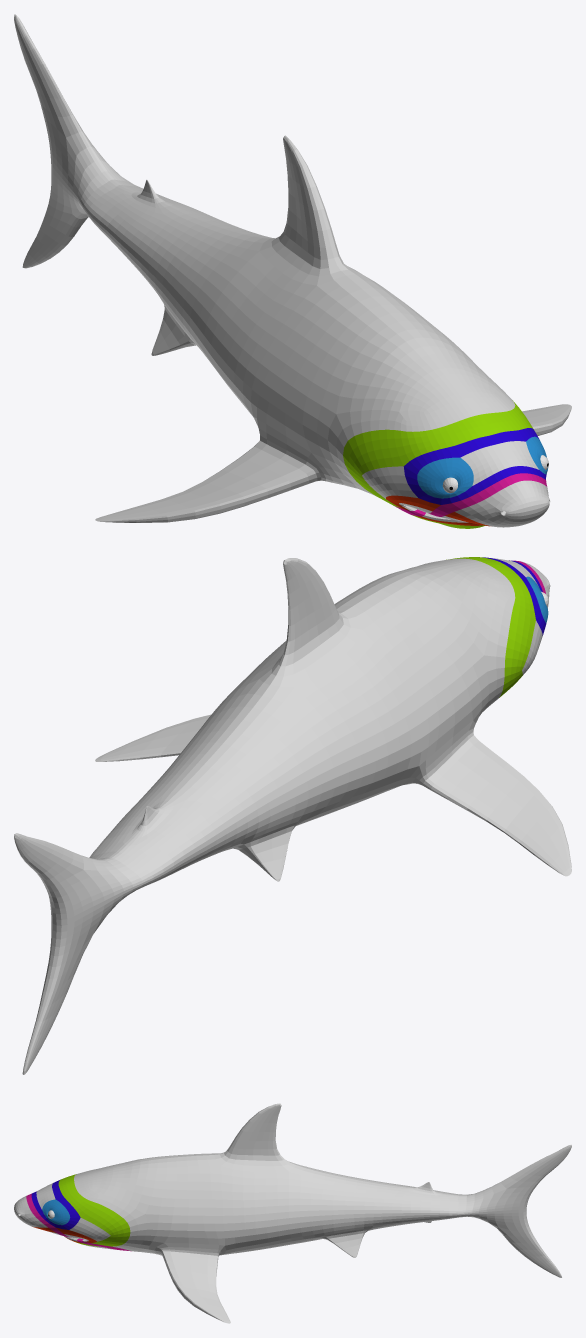
File: shark_jigh.fbx
3 views of the same model, one above another, from view 1: azimuth 30°, elevation 25°; view 2: azimuth 150°, elevation 25°; view 3: azimuth 270°, elevation 25° (orthographic). The views are drawn at different scales.
Visible parts, largest first — view 1: shark_high; view 2: shark_high; view 3: shark_high.
Boxes of the visible parts, bbox=[...] form: shark_high: bbox=[14, 14, 571, 528]; shark_high: bbox=[14, 557, 571, 1074]; shark_high: bbox=[14, 1103, 571, 1323].
Bounding box in the file's own units: 433 × 283 × 819.
